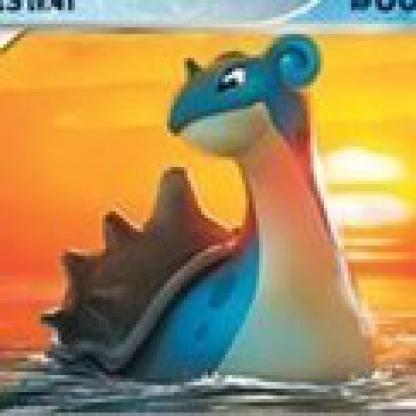Lapras: (14, 51, 379, 398)
